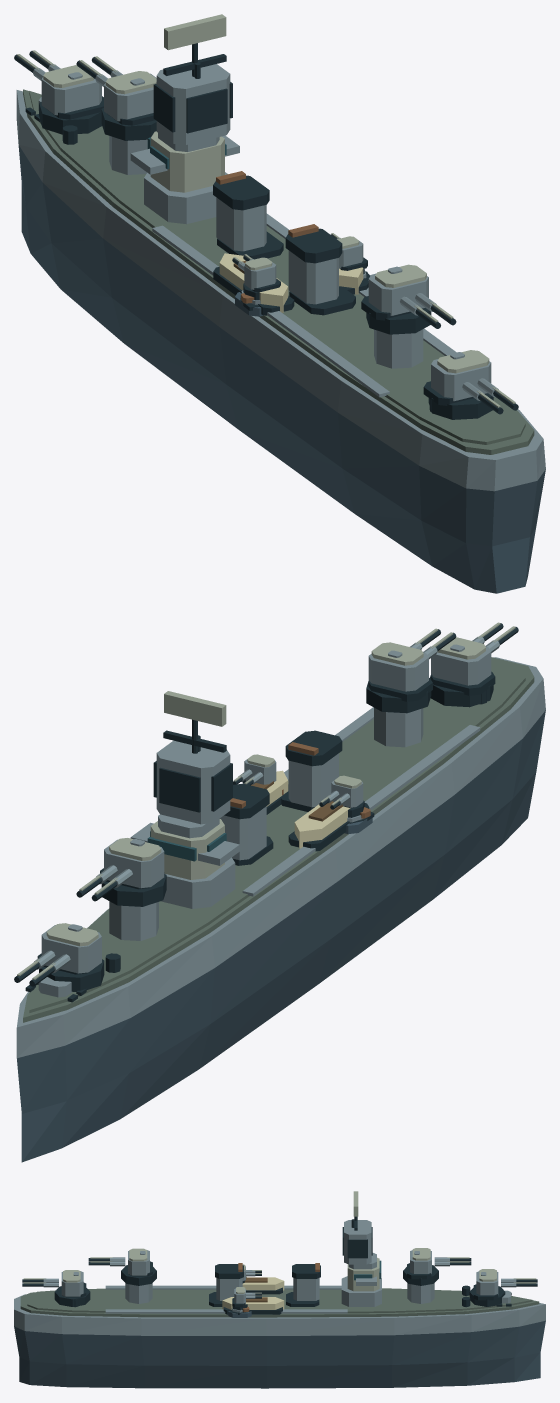
Rendered from historic-norfolk.glb.
3 renders of one model, top to bottom at view 1: azimuth 30°, elevation 25°; view 2: azimuth 150°, elevation 25°; view 3: azimuth 270°, elevation 25°, orthographic. The views are drawn at different scales.
Visible parts, largest first — view 1: historic-norfolk-historic-norfolk-geometry, historic-norfolk-part_bridge.135-geometry, historic-norfolk-historic_funnel_1.073-geometry, historic-norfolk-historic_funnel_0.128-geometry, historic-norfolk-turret_main_2.082-geometry, historic-norfolk-turret_main_3.055-geometry, historic-norfolk-turret_main_0.104-geometry, historic-norfolk-turret_main_1.097-geometry, historic-norfolk-turret_aa_aa-port.137-geometry, historic-norfolk-turret_aa_aa-starboard.133-geometry; view 2: historic-norfolk-historic-norfolk-geometry, historic-norfolk-part_bridge.135-geometry, historic-norfolk-turret_main_2.082-geometry, historic-norfolk-turret_main_1.097-geometry, historic-norfolk-turret_main_3.055-geometry, historic-norfolk-turret_main_0.104-geometry, historic-norfolk-historic_funnel_1.073-geometry, historic-norfolk-historic_funnel_0.128-geometry, historic-norfolk-turret_aa_aa-port.137-geometry, historic-norfolk-turret_aa_aa-starboard.133-geometry; view 3: historic-norfolk-historic-norfolk-geometry, historic-norfolk-part_bridge.135-geometry, historic-norfolk-turret_main_1.097-geometry, historic-norfolk-turret_main_2.082-geometry, historic-norfolk-turret_main_0.104-geometry, historic-norfolk-turret_main_3.055-geometry, historic-norfolk-historic_funnel_0.128-geometry, historic-norfolk-historic_funnel_1.073-geometry, historic-norfolk-turret_aa_aa-starboard.133-geometry.
Boxes of the visible parts, x1=… form: historic-norfolk-historic-norfolk-geometry: x1=16, y1=89, x2=545, y2=593; historic-norfolk-part_bridge.135-geometry: x1=130, y1=14, x2=239, y2=224; historic-norfolk-historic_funnel_1.073-geometry: x1=285, y1=224, x2=355, y2=315; historic-norfolk-historic_funnel_0.128-geometry: x1=213, y1=171, x2=283, y2=259; historic-norfolk-turret_main_2.082-geometry: x1=361, y1=264, x2=456, y2=334; historic-norfolk-turret_main_3.055-geometry: x1=423, y1=350, x2=518, y2=419; historic-norfolk-turret_main_0.104-geometry: x1=14, y1=50, x2=103, y2=134; historic-norfolk-turret_main_1.097-geometry: x1=76, y1=56, x2=156, y2=140; historic-norfolk-turret_aa_aa-port.137-geometry: x1=232, y1=254, x2=280, y2=300; historic-norfolk-turret_aa_aa-starboard.133-geometry: x1=331, y1=233, x2=367, y2=274; historic-norfolk-historic-norfolk-geometry: x1=16, y1=657, x2=545, y2=1162; historic-norfolk-part_bridge.135-geometry: x1=130, y1=691, x2=239, y2=908; historic-norfolk-turret_main_2.082-geometry: x1=366, y1=628, x2=456, y2=713; historic-norfolk-turret_main_1.097-geometry: x1=76, y1=838, x2=166, y2=906; historic-norfolk-turret_main_3.055-geometry: x1=430, y1=622, x2=518, y2=707; historic-norfolk-turret_main_0.104-geometry: x1=14, y1=923, x2=104, y2=991; historic-norfolk-historic_funnel_1.073-geometry: x1=281, y1=730, x2=342, y2=811; historic-norfolk-historic_funnel_0.128-geometry: x1=219, y1=783, x2=273, y2=865; historic-norfolk-turret_aa_aa-port.137-geometry: x1=319, y1=775, x2=364, y2=817; historic-norfolk-turret_aa_aa-starboard.133-geometry: x1=233, y1=754, x2=276, y2=785; historic-norfolk-historic-norfolk-geometry: x1=14, y1=1277, x2=545, y2=1388; historic-norfolk-part_bridge.135-geometry: x1=341, y1=1191, x2=381, y2=1306; historic-norfolk-turret_main_1.097-geometry: x1=403, y1=1248, x2=471, y2=1285; historic-norfolk-turret_main_2.082-geometry: x1=88, y1=1248, x2=156, y2=1285; historic-norfolk-turret_main_0.104-geometry: x1=469, y1=1269, x2=537, y2=1306; historic-norfolk-turret_main_3.055-geometry: x1=22, y1=1270, x2=90, y2=1306; historic-norfolk-historic_funnel_0.128-geometry: x1=286, y1=1263, x2=320, y2=1306; historic-norfolk-historic_funnel_1.073-geometry: x1=209, y1=1263, x2=243, y2=1306; historic-norfolk-turret_aa_aa-starboard.133-geometry: x1=232, y1=1287, x2=261, y2=1310.
Size of the model in its own units: 0.5986 by 1.53 by 4.11.
